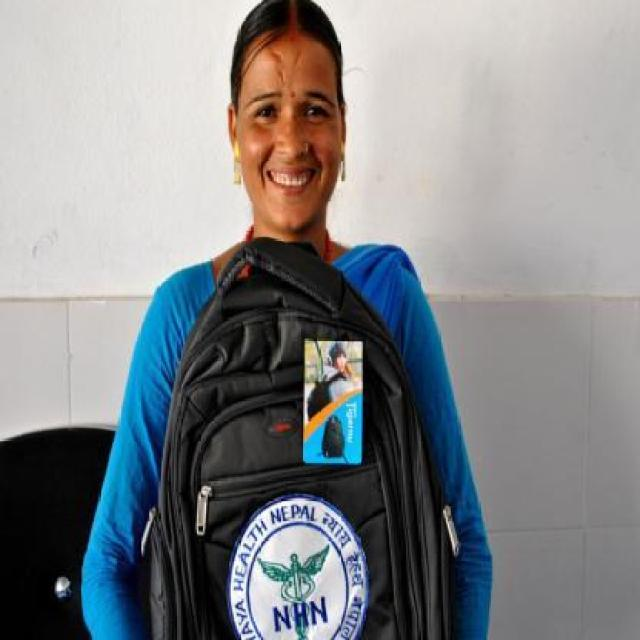backpack: (142, 229, 466, 640)
